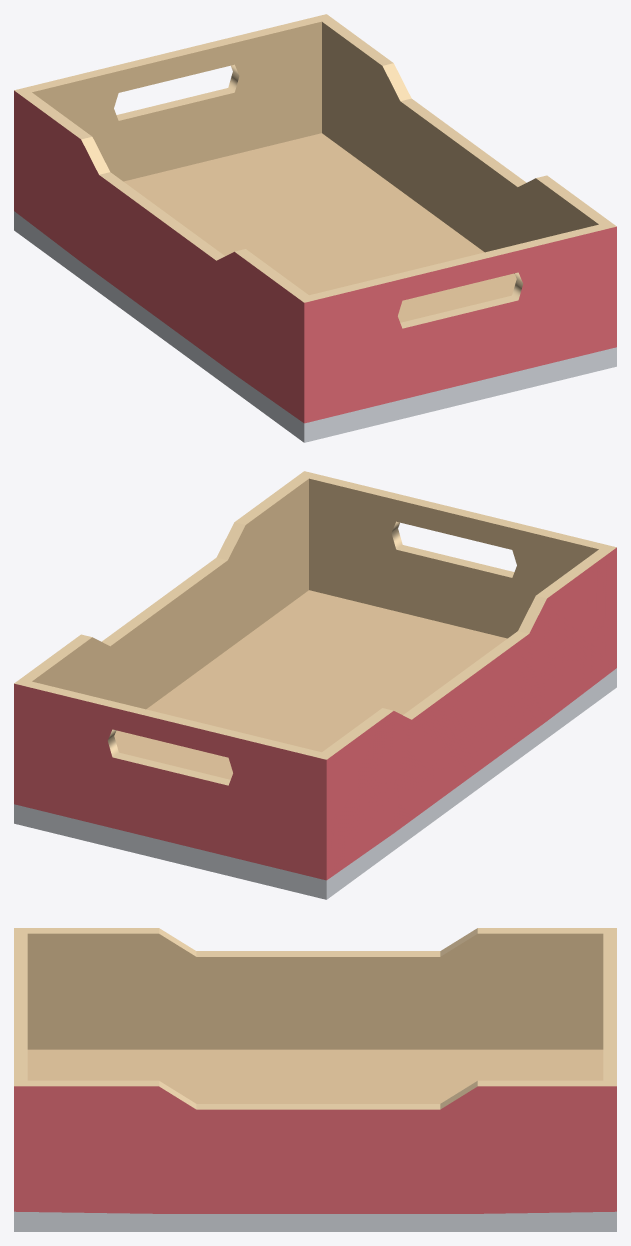
Rendered from SM_Prop_Box_02.obj.
3 renders of one model, top to bottom at view 1: azimuth 30°, elevation 25°; view 2: azimuth 150°, elevation 25°; view 3: azimuth 270°, elevation 25°, orthographic. The views are drawn at different scales.
Visible parts, largest first — view 1: SM_Prop_Box_02_Mat_SwatchOverlay_PolygonTown_01_Dirty; view 2: SM_Prop_Box_02_Mat_SwatchOverlay_PolygonTown_01_Dirty; view 3: SM_Prop_Box_02_Mat_SwatchOverlay_PolygonTown_01_Dirty.
Part boxes in pixels (x1,y1,x2,y2): SM_Prop_Box_02_Mat_SwatchOverlay_PolygonTown_01_Dirty: (14,14,616,442); SM_Prop_Box_02_Mat_SwatchOverlay_PolygonTown_01_Dirty: (14,471,616,899); SM_Prop_Box_02_Mat_SwatchOverlay_PolygonTown_01_Dirty: (14,928,616,1231).
Size of the model in its own units: 0.478 by 0.2046 by 0.7687.
1 material, 1 textured.
